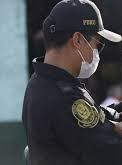with_mask: (63, 20, 112, 83)
